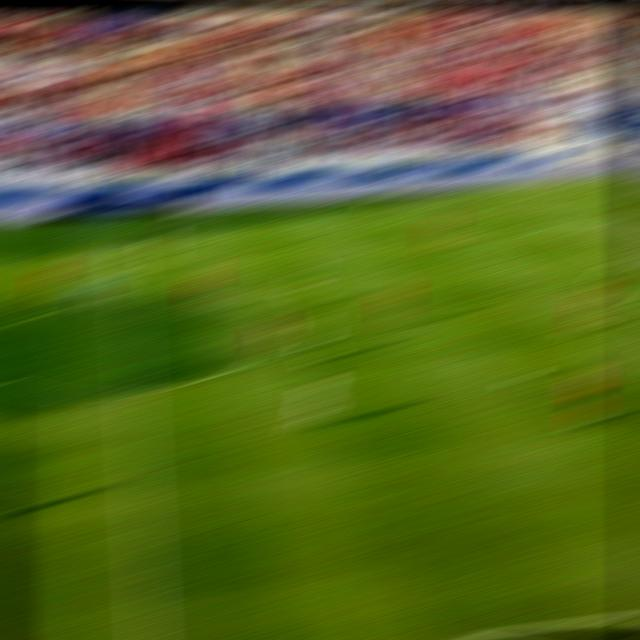bigarea_top_inner: (539, 218, 572, 230)
halfcircle_bottom: (116, 380, 156, 403)
halfcircle_top: (111, 286, 148, 305)
midline_top_intersection: (108, 218, 142, 233)
top_arc_area_intersection: (605, 250, 638, 264)
